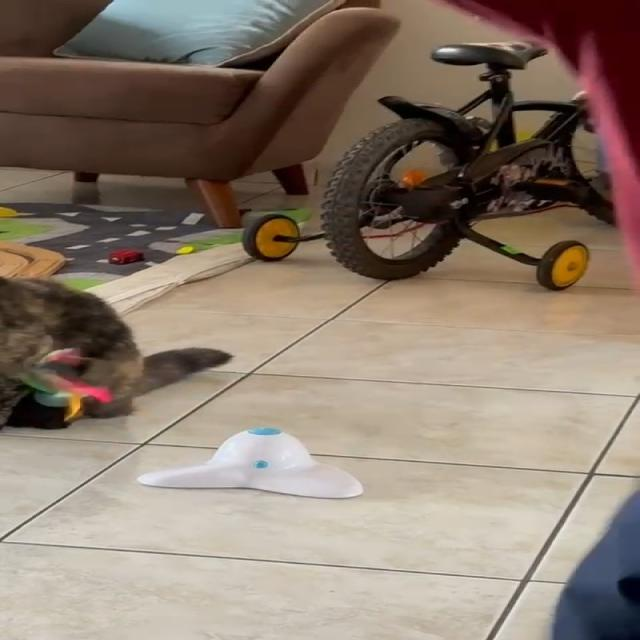authorized: (0, 274, 233, 431)
